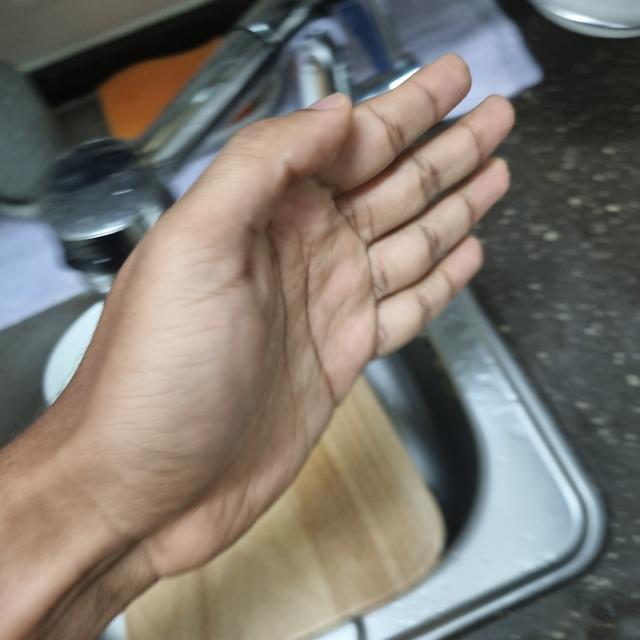Paper: (54, 59, 514, 561)
